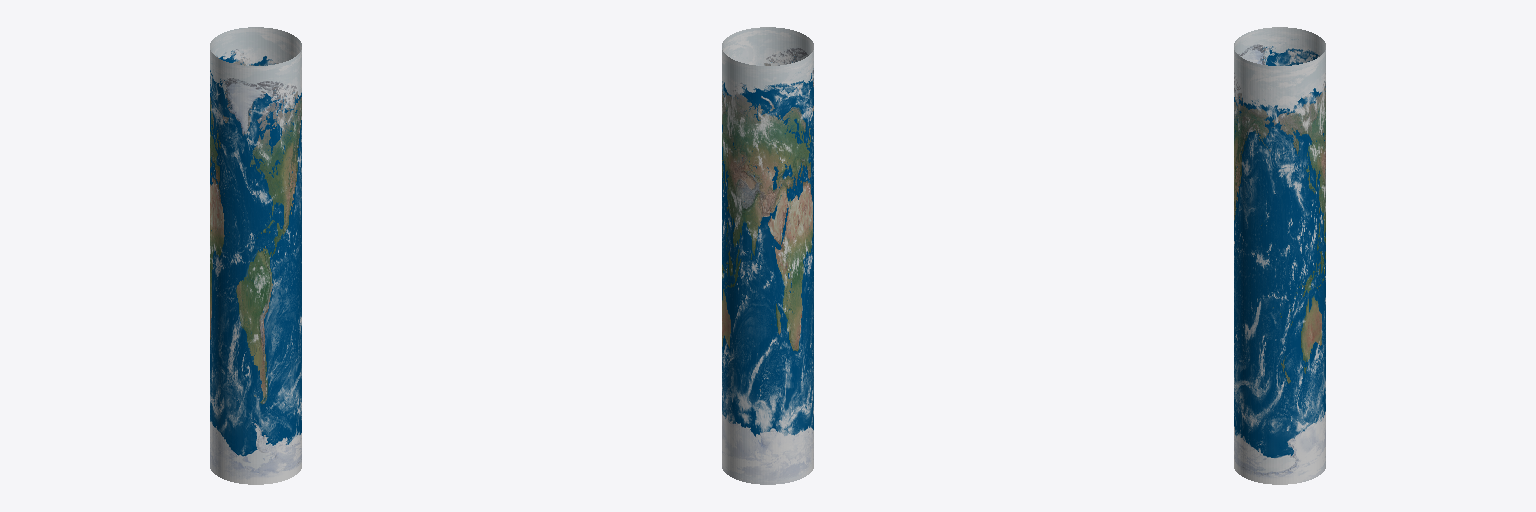
3 renders of one model, left to right at view 1: azimuth 30°, elevation 25°; view 2: azimuth 150°, elevation 25°; view 3: azimuth 270°, elevation 25°, orthographic.
Size of the model in its own units: 2 by 10 by 2.
Materials: 1 (1 with a texture image).